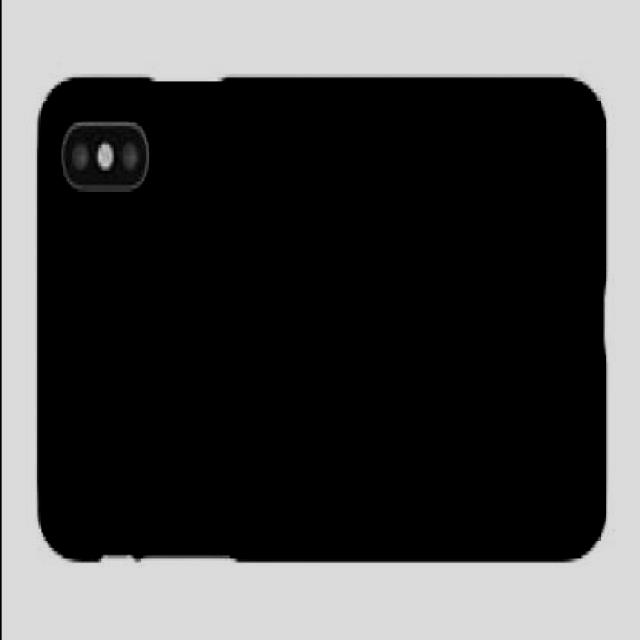fake: (35, 74, 603, 558)
